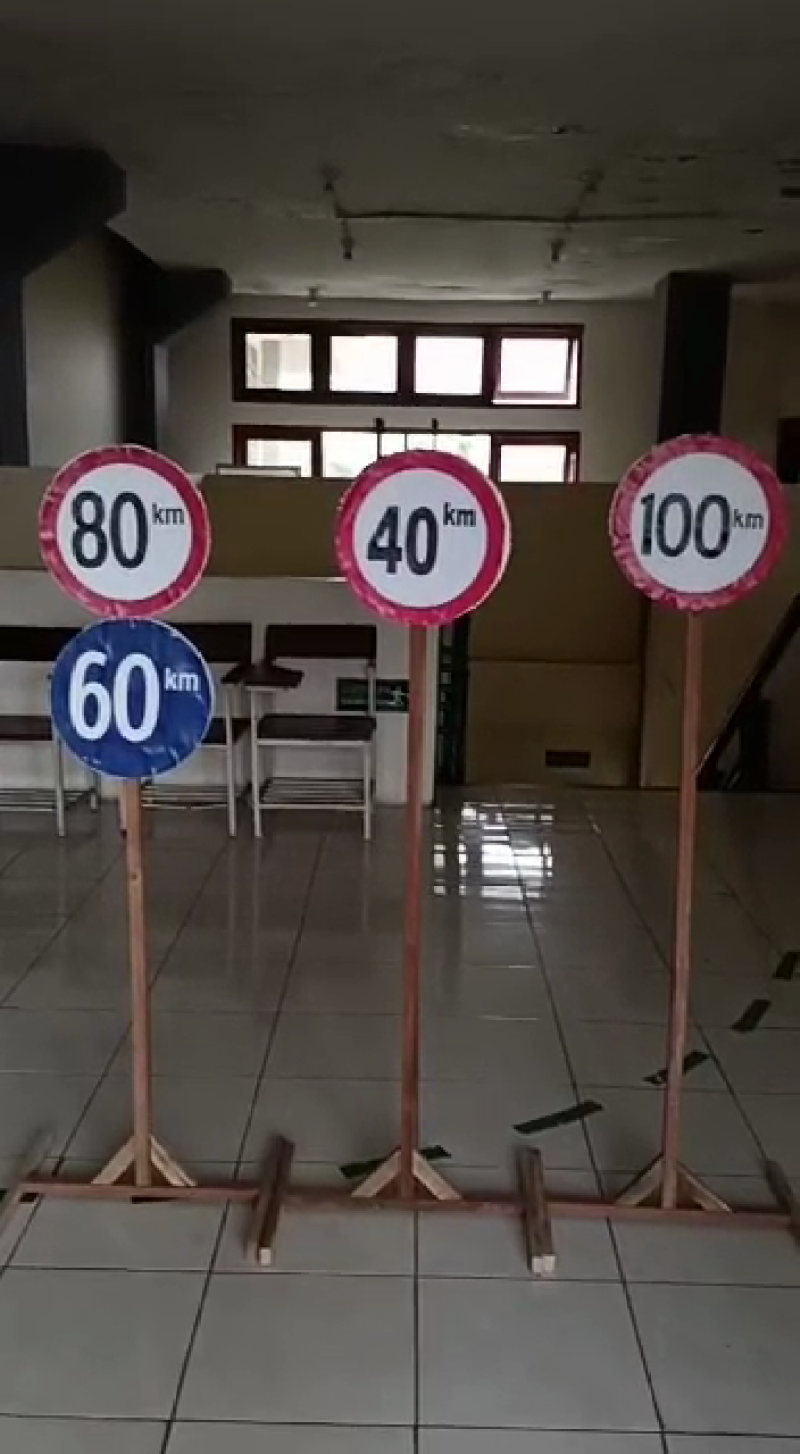batas maksimal 100kmperjam: (585, 411, 792, 644)
batas maksimal 40kmperjam: (329, 444, 516, 622)
batas maksimal 80kmperjam minimal 60kmperjam: (26, 429, 218, 785)
